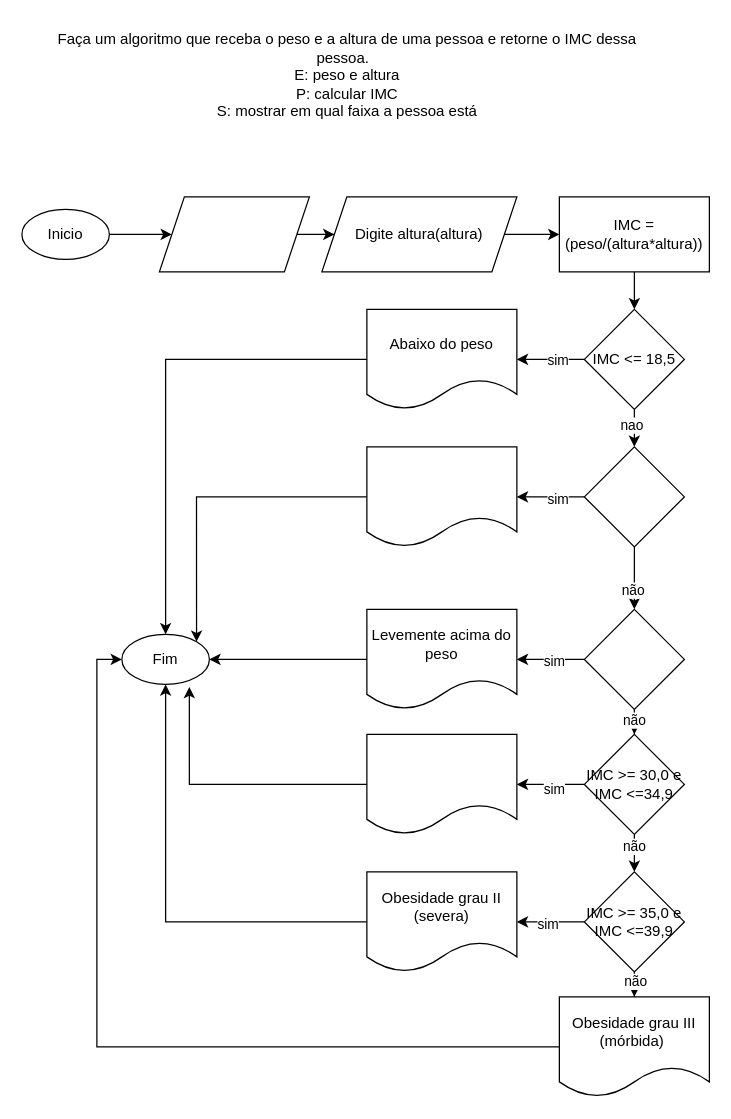
Image size: 731x1119. Some labels were removed from this diagram. The centre of each missing label's shape, as x and y in pixels:
Digite peso(peso): (x=233, y=234)
IMC >= 18,6 e IMC <=24,9: (x=633, y=496)
IMC >= 25,0 e IMC <=29,9: (x=633, y=658)
Obesidade grau I: (x=441, y=783)
Peso ideal (Parabéns): (x=441, y=496)
